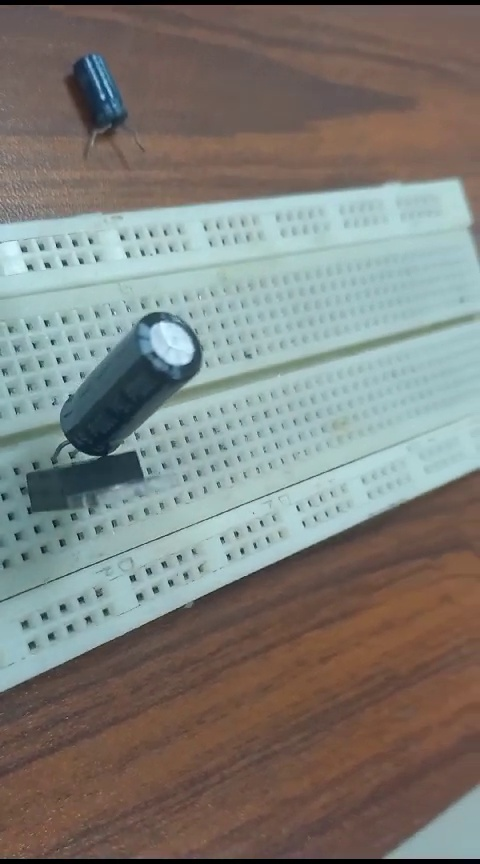capacitor: (59, 288, 202, 460), (62, 45, 144, 177)
voltage regulator: (11, 463, 175, 521)
